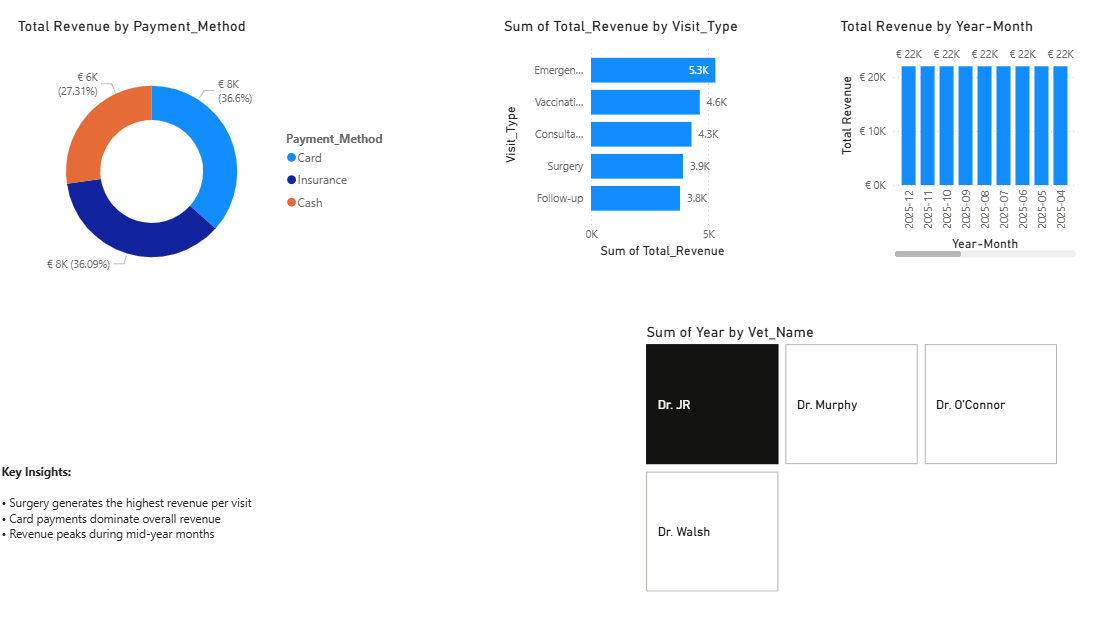

Layout of this report page (visuals, bound fields, positions):
{"tool":"powerbi","page":{"name":"Financial Analysis","canvas":[1280,720],"ordinal":1},"visuals":[{"type":"clusteredBarChart","fields":{"Category":["Vet_clinic_Data.Visit_Type"],"Y":["Vet_clinic_Data.Total_Revenue"]},"box":[574.3,22.9,280,280],"z":0},{"type":"clusteredColumnChart","fields":{"Category":["Date_Table.Year-Month"],"Y":["Vet_clinic_Data.Total Revenue"]},"box":[958.6,22.9,280,280],"z":1000},{"type":"donutChart","fields":{"Category":["Vet_clinic_Data.Payment_Method"],"Y":["Vet_clinic_Data.Total Revenue"]},"box":[0,0,442.9,334.3],"z":2000},{"type":"advancedSlicerVisual","fields":{"Values":["Vet_clinic_Data.Vet_Name"]},"box":[737.1,372.9,481.4,311.4],"z":3000},{"type":"textbox","box":[0,528.6,398.6,191.4],"z":4000}]}

Visuals, with their boxes in screenshot pixels (x1, y1, x2, y2), scaled from the page's 1280x720 canvas onto the 1113x624 screenshot:
clusteredBarChart - Vet_clinic_Data.Visit_Type x Vet_clinic_Data.Total_Revenue: 499, 20, 743, 263
clusteredColumnChart - Date_Table.Year-Month x Vet_clinic_Data.Total Revenue: 834, 20, 1077, 263
donutChart - Vet_clinic_Data.Payment_Method x Vet_clinic_Data.Total Revenue: 0, 0, 385, 290
advancedSlicerVisual - Vet_clinic_Data.Vet_Name: 641, 323, 1060, 593
textbox: 0, 458, 347, 623
